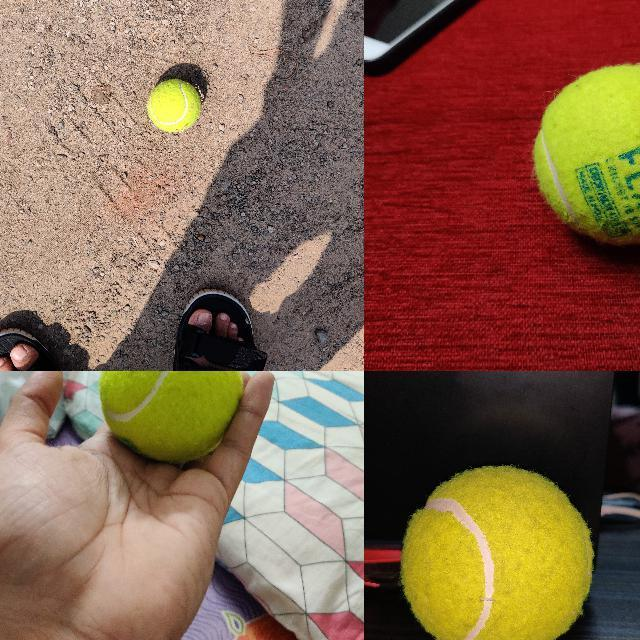tennis-ball: (400, 463, 593, 639), (532, 61, 639, 246), (100, 371, 242, 460), (147, 79, 200, 132)
